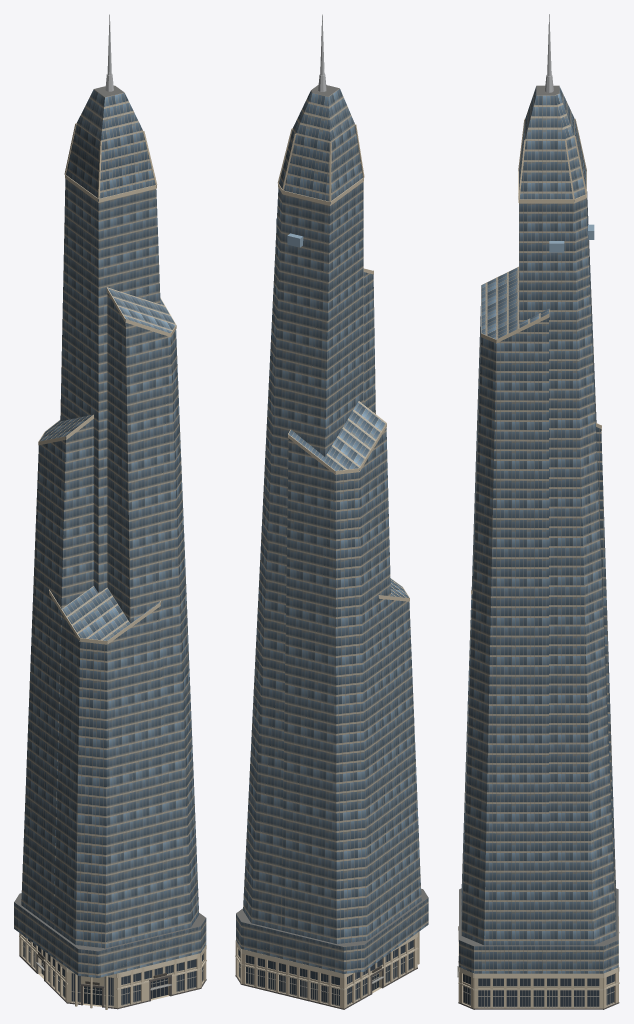
The model's file is one_vanderbilt.glb.
3 renders of one model, left to right at view 1: azimuth 30°, elevation 25°; view 2: azimuth 150°, elevation 25°; view 3: azimuth 270°, elevation 25°, orthographic.
Visible parts, largest first — view 1: one_vanderbilt; view 2: one_vanderbilt; view 3: one_vanderbilt.
Boxes of the visible parts, x1=… form: one_vanderbilt: x1=14, y1=14, x2=206, y2=1009; one_vanderbilt: x1=235, y1=14, x2=428, y2=1009; one_vanderbilt: x1=457, y1=14, x2=619, y2=1009.
Size of the model in its own units: 60.52 by 427 by 64.9.
2 materials, 2 textured.
